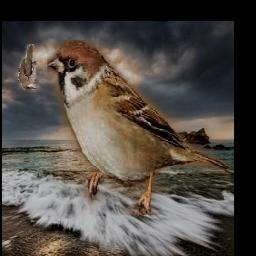Cuckoo: (18, 44, 36, 90)
Sparrow: (47, 41, 231, 216)
